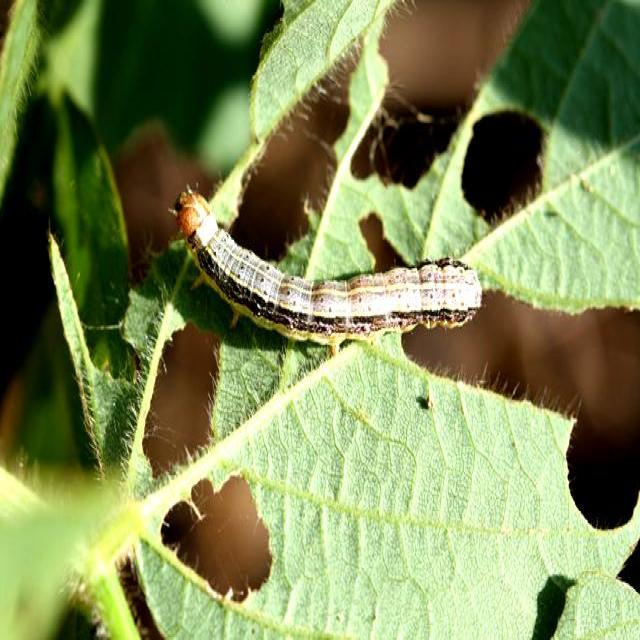Armyworm: (158, 170, 494, 397)
Armyworm_damage: (150, 456, 303, 640), (128, 299, 250, 484), (449, 89, 577, 250), (553, 387, 640, 568)
